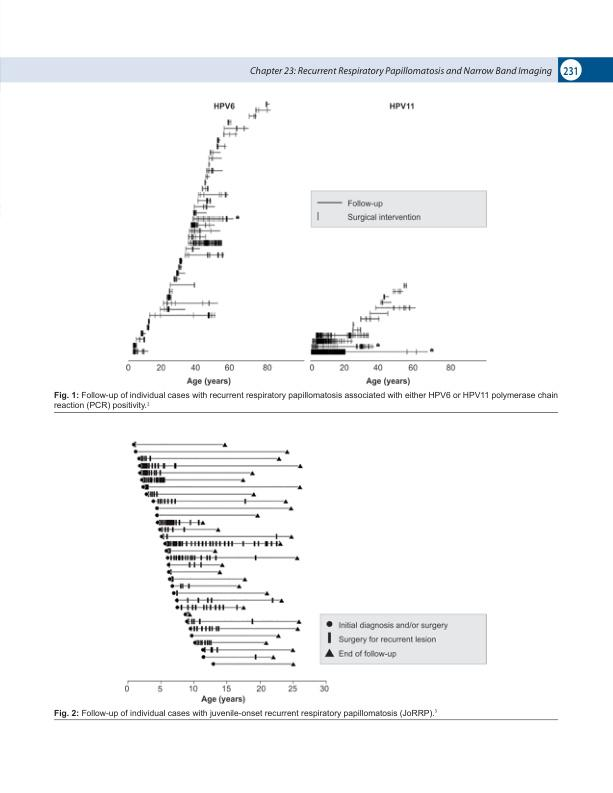caption: (53, 390, 559, 410), (53, 709, 438, 718)
header: (248, 65, 553, 78)
image: (86, 91, 540, 389), (87, 427, 517, 707)
